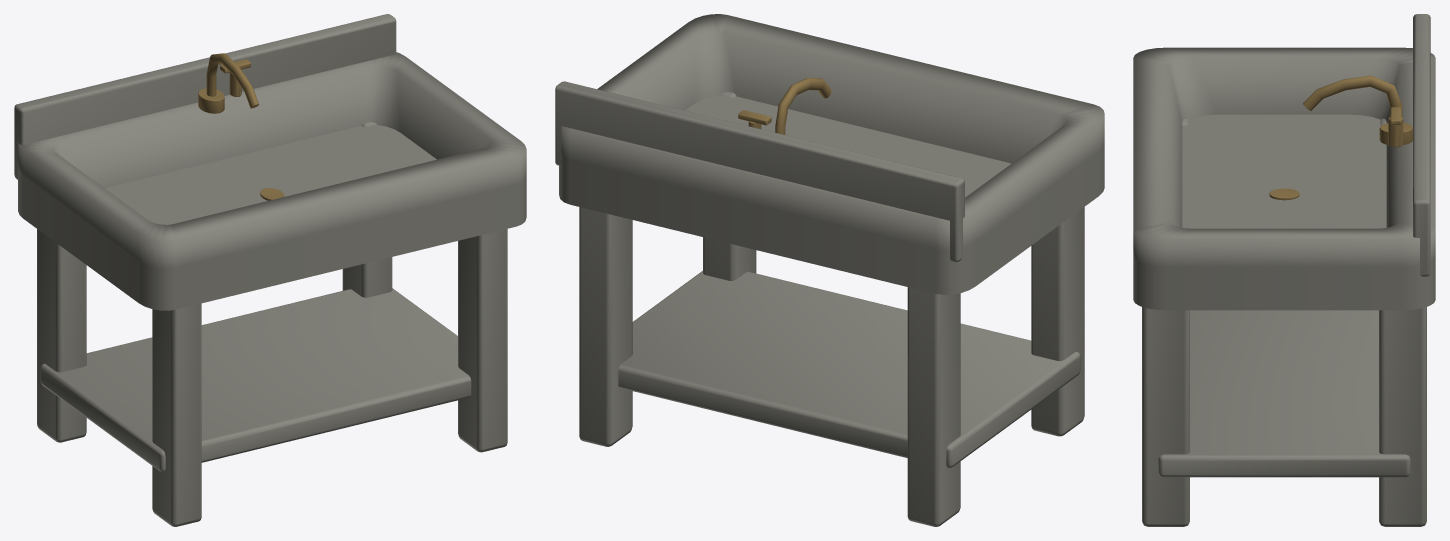
Rendered from kominka-sink-900-01.glb.
3 renders of one model, left to right at view 1: azimuth 30°, elevation 25°; view 2: azimuth 150°, elevation 25°; view 3: azimuth 270°, elevation 25°, orthographic. The views are drawn at different scales.
Visible parts, largest first — view 1: kominka-sink-900-01; view 2: kominka-sink-900-01; view 3: kominka-sink-900-01.
Part boxes in pixels (left/top/right/bottom): kominka-sink-900-01: left=14, top=14, right=526, bottom=526; kominka-sink-900-01: left=555, top=14, right=1104, bottom=526; kominka-sink-900-01: left=1133, top=14, right=1435, bottom=526.
Size of the model in its own units: 0.9 by 0.8 by 0.6.
